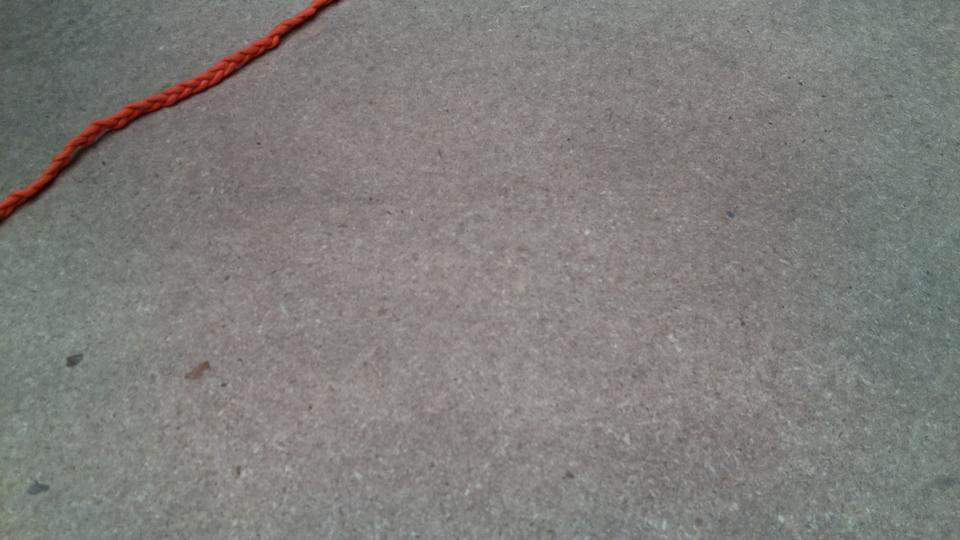rope: (1, 1, 316, 212)
